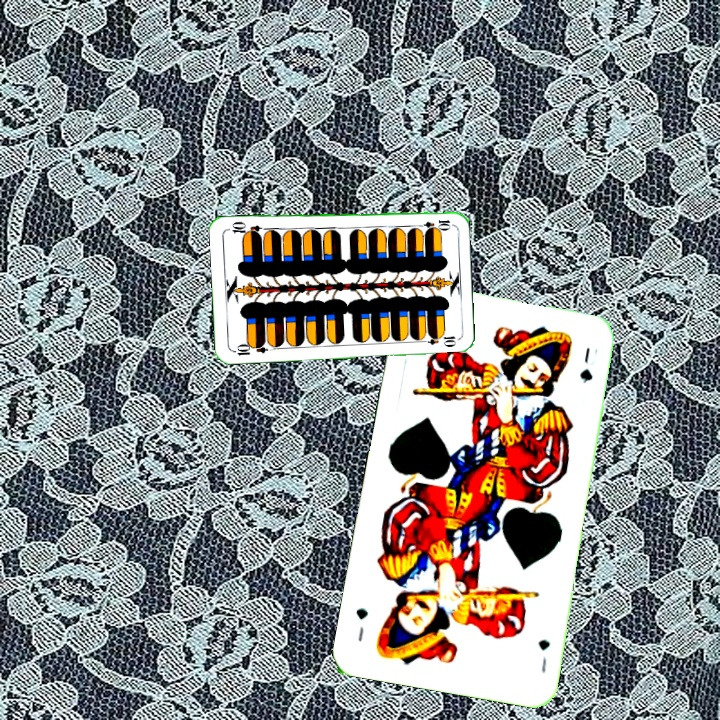E10: (230, 338, 270, 358), (412, 216, 453, 230)
GU: (534, 635, 553, 675)
